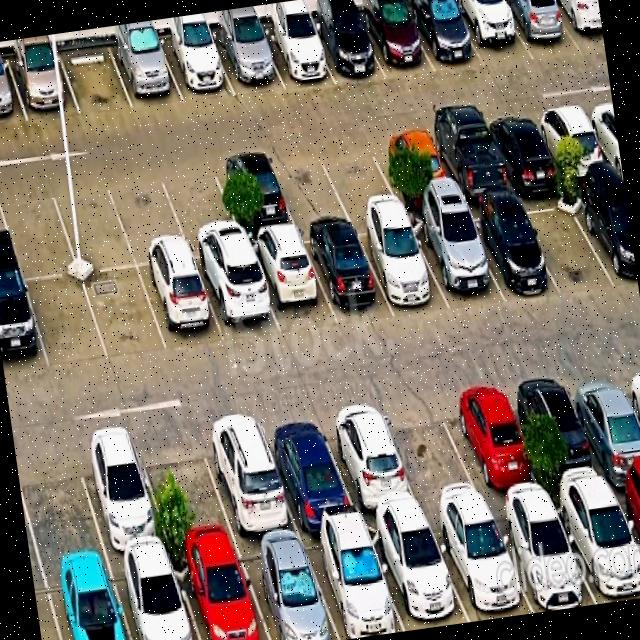empty: (376, 388, 487, 516), (134, 426, 237, 551), (15, 439, 106, 569), (516, 188, 617, 291), (158, 159, 246, 259), (49, 176, 136, 273), (107, 169, 192, 266), (82, 267, 168, 361), (0, 182, 78, 280), (26, 276, 108, 369), (267, 145, 350, 225), (317, 138, 400, 215), (58, 44, 133, 114)
occupied: (440, 379, 546, 506), (197, 411, 299, 542), (317, 398, 424, 519), (511, 370, 611, 496), (257, 409, 359, 532), (72, 431, 170, 559), (489, 500, 596, 613), (428, 508, 533, 622), (301, 526, 404, 640), (366, 519, 470, 631), (235, 537, 340, 640), (551, 487, 640, 604), (460, 201, 558, 301), (407, 210, 505, 310), (300, 223, 394, 325), (246, 231, 337, 336), (563, 364, 640, 486), (354, 217, 450, 314), (171, 545, 269, 640), (138, 261, 225, 352), (109, 553, 199, 640), (195, 254, 281, 343), (424, 120, 513, 202), (570, 181, 638, 287), (211, 152, 296, 235), (44, 561, 131, 640), (371, 129, 456, 205), (482, 111, 563, 189), (532, 104, 612, 179), (358, 2, 435, 79), (450, 0, 534, 69), (405, 0, 485, 72), (307, 12, 385, 83), (109, 38, 184, 109), (158, 35, 235, 103), (7, 50, 80, 121), (258, 22, 335, 88), (499, 0, 582, 60), (0, 277, 49, 376), (212, 29, 284, 95), (552, 0, 605, 52), (611, 481, 640, 552), (0, 58, 28, 125)
